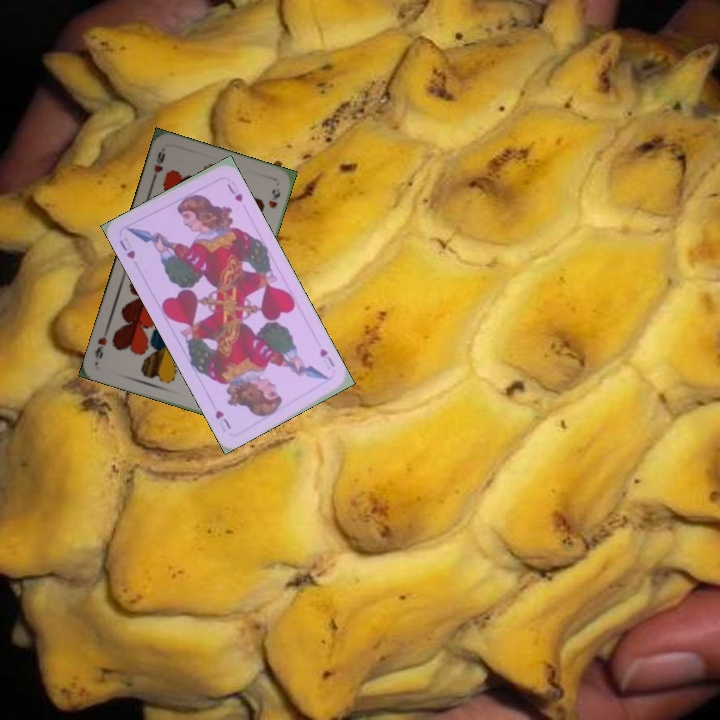H9: (148, 145, 168, 185)
HU: (115, 233, 138, 262), (315, 344, 338, 373)
